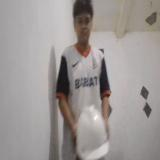Helmet: (76, 106, 110, 160)
